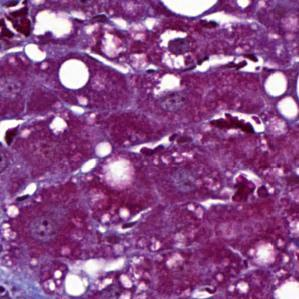inflammation: (202, 107, 267, 141), (202, 50, 269, 77), (160, 30, 194, 73), (5, 5, 40, 39)
